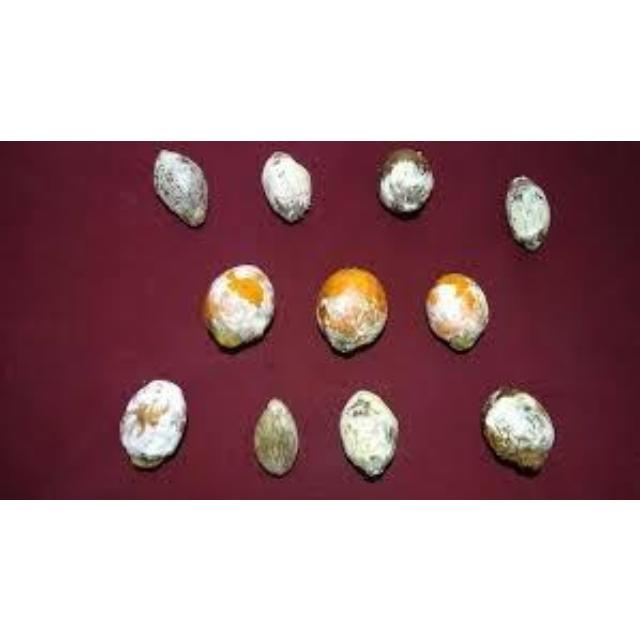damaged: (202, 262, 276, 348), (481, 386, 555, 472), (316, 264, 388, 352), (120, 378, 188, 468), (338, 389, 400, 477), (424, 270, 490, 350), (153, 148, 209, 226), (376, 146, 434, 214), (260, 148, 312, 222), (253, 397, 300, 475), (505, 172, 551, 250)
